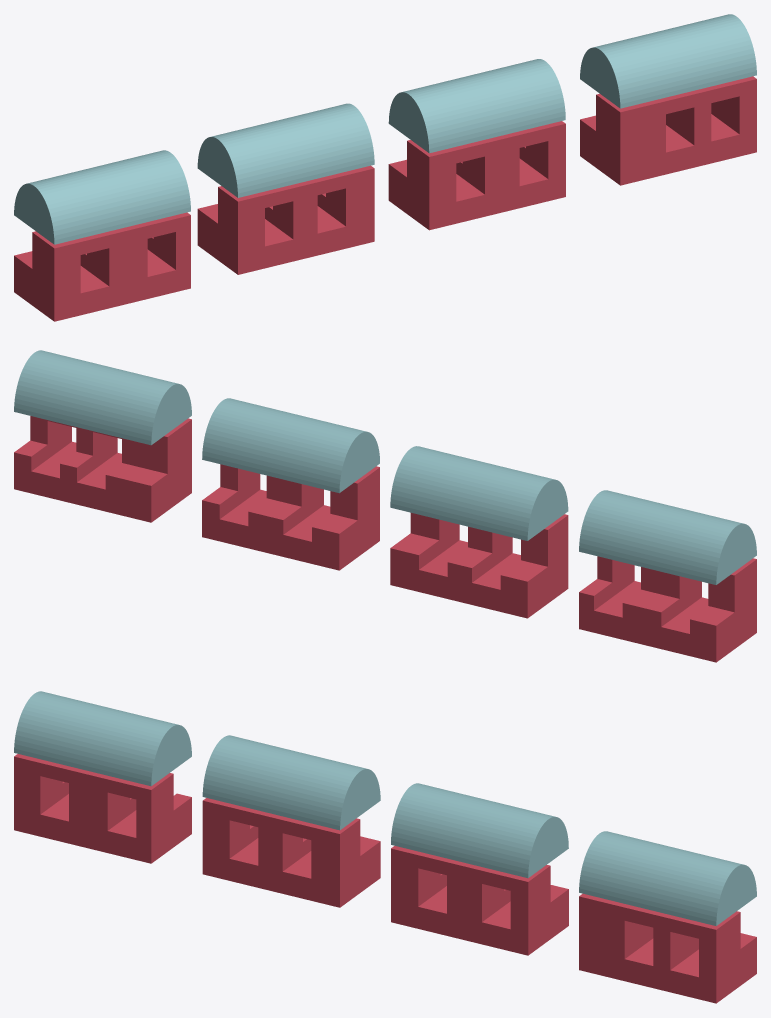
The model's file is Glorious Maimu.glb.
The picture shows the model from 3 angles, top to bottom: view 1: azimuth 30°, elevation 25°; view 2: azimuth 150°, elevation 25°; view 3: azimuth 330°, elevation 25°; orthographic projection.
Visible parts, largest first — view 1: Mesh_Mesh_head_geo.001_lambert2SG.001; view 2: Mesh_Mesh_head_geo.001_lambert2SG.001; view 3: Mesh_Mesh_head_geo.001_lambert2SG.001.
Boxes of the visible parts, x1=… form: Mesh_Mesh_head_geo.001_lambert2SG.001: x1=14, y1=14, x2=756, y2=321; Mesh_Mesh_head_geo.001_lambert2SG.001: x1=14, y1=350, x2=756, y2=662; Mesh_Mesh_head_geo.001_lambert2SG.001: x1=14, y1=691, x2=756, y2=1003.
Bounding box in the file's own units: 200 × 33 × 22.
